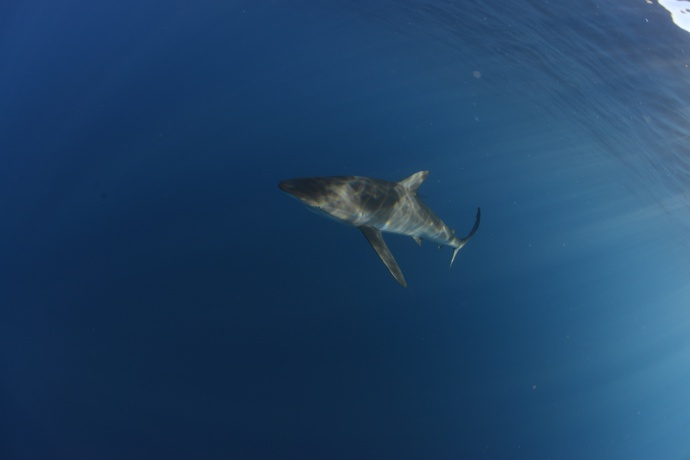Sedoso: (251, 157, 496, 296)
